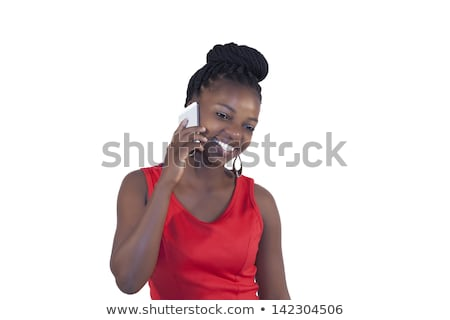phone: (165, 102, 209, 148)
talk: (162, 100, 258, 179)
